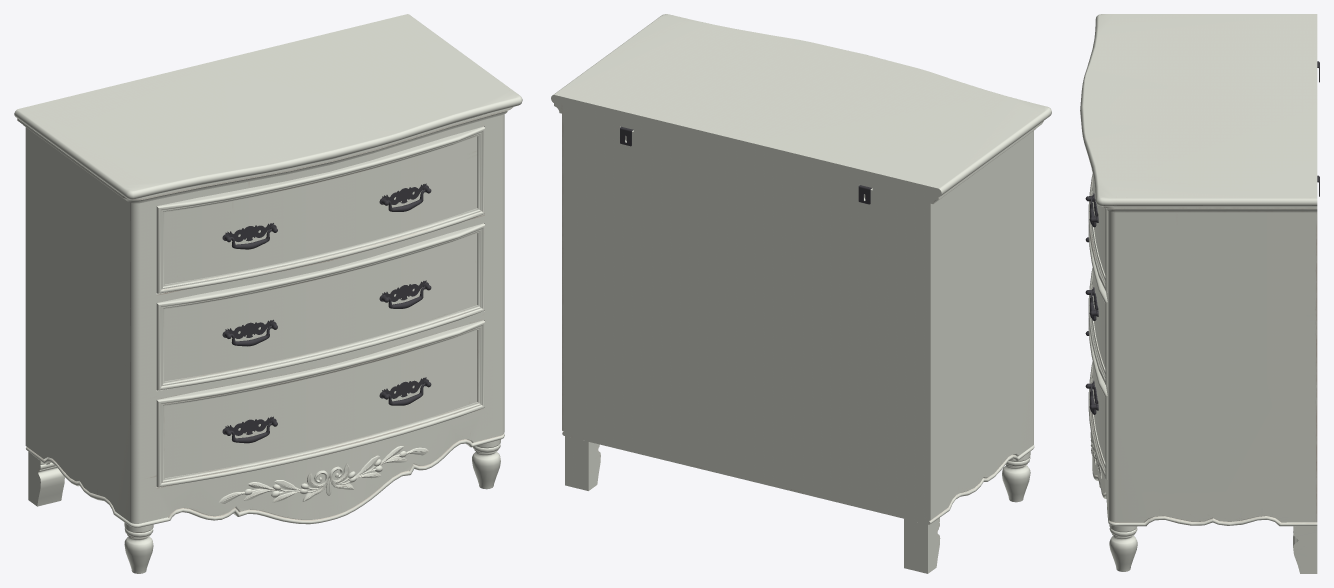
Rendered from example171.gltf.
3 renders of one model, left to right at view 1: azimuth 30°, elevation 25°; view 2: azimuth 150°, elevation 25°; view 3: azimuth 270°, elevation 25°, orthographic. The views are drawn at different scales.
Size of the model in its own units: 87 by 82.5 by 47.06.
2 materials, 2 textured.
